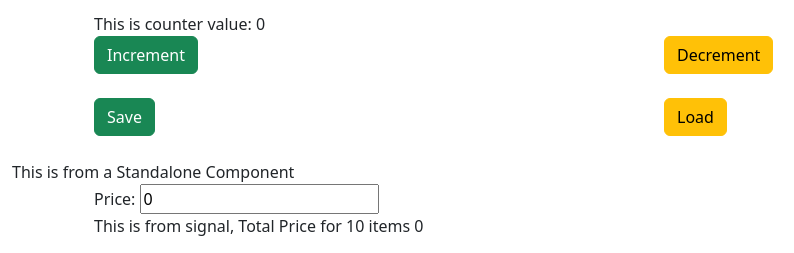
Scenario: My e2e Test for Angular Sample Second › Test - Store Counter - Save and Load Store
This screenshot has width=794, height=253.
// increment by 2
Click the button with class "btn-success" showing "Increment" at (146, 55), box x1=94 y1=36 x2=198 y2=74
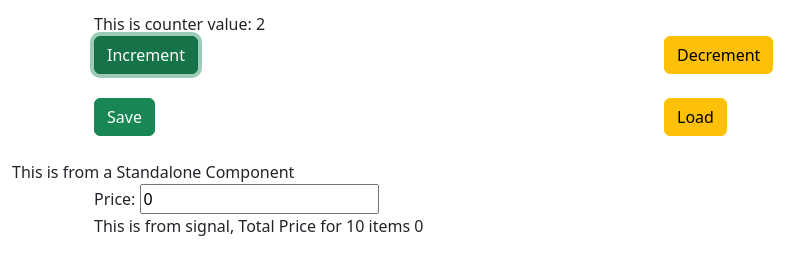
Now the text "This is counter value: 2" is shown, box x1=94 y1=13 x2=265 y2=35
// save to store
Click the button with class "btn-success" showing "Save" at (125, 117), box x1=94 y1=98 x2=155 y2=136
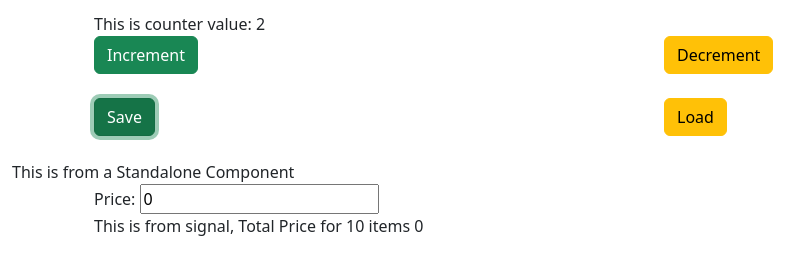
// decrement by 2 in screen
Click the button with class "btn-warning" showing "Decrement" at (719, 55), box x1=664 y1=36 x2=773 y2=74
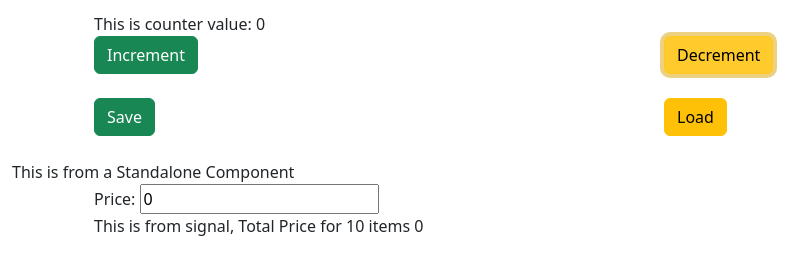
Now the text "This is counter value: 0" is shown, box x1=94 y1=13 x2=265 y2=35
// Load from store to reset latest screen value
Click the button with class "btn-warning" showing "Load" at (696, 117), box x1=664 y1=98 x2=727 y2=136
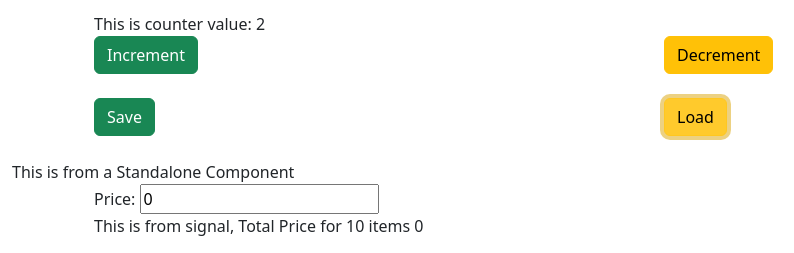
Now the text "This is counter value: 2" is shown, box x1=94 y1=13 x2=265 y2=35
